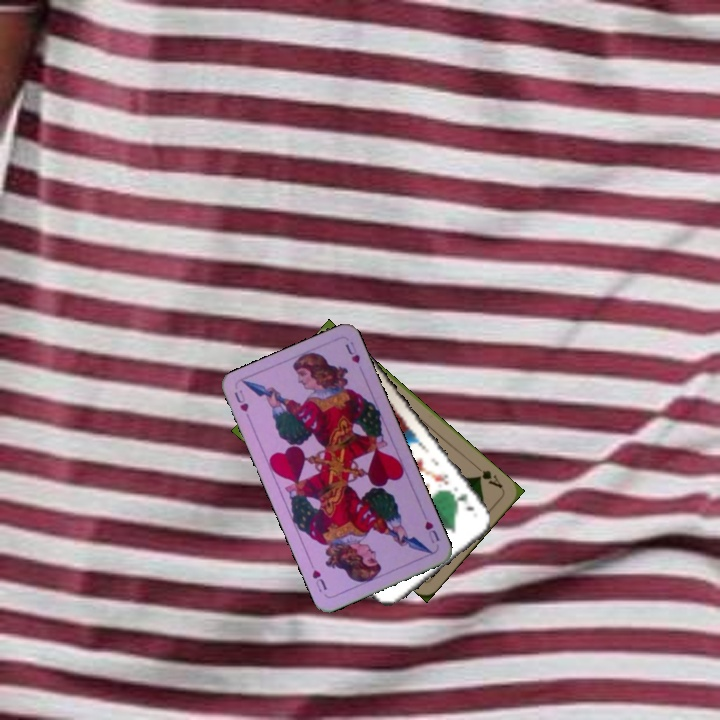GA: (471, 461, 506, 491)
GK: (453, 489, 477, 514)
HU: (230, 385, 254, 424), (421, 517, 442, 546)
